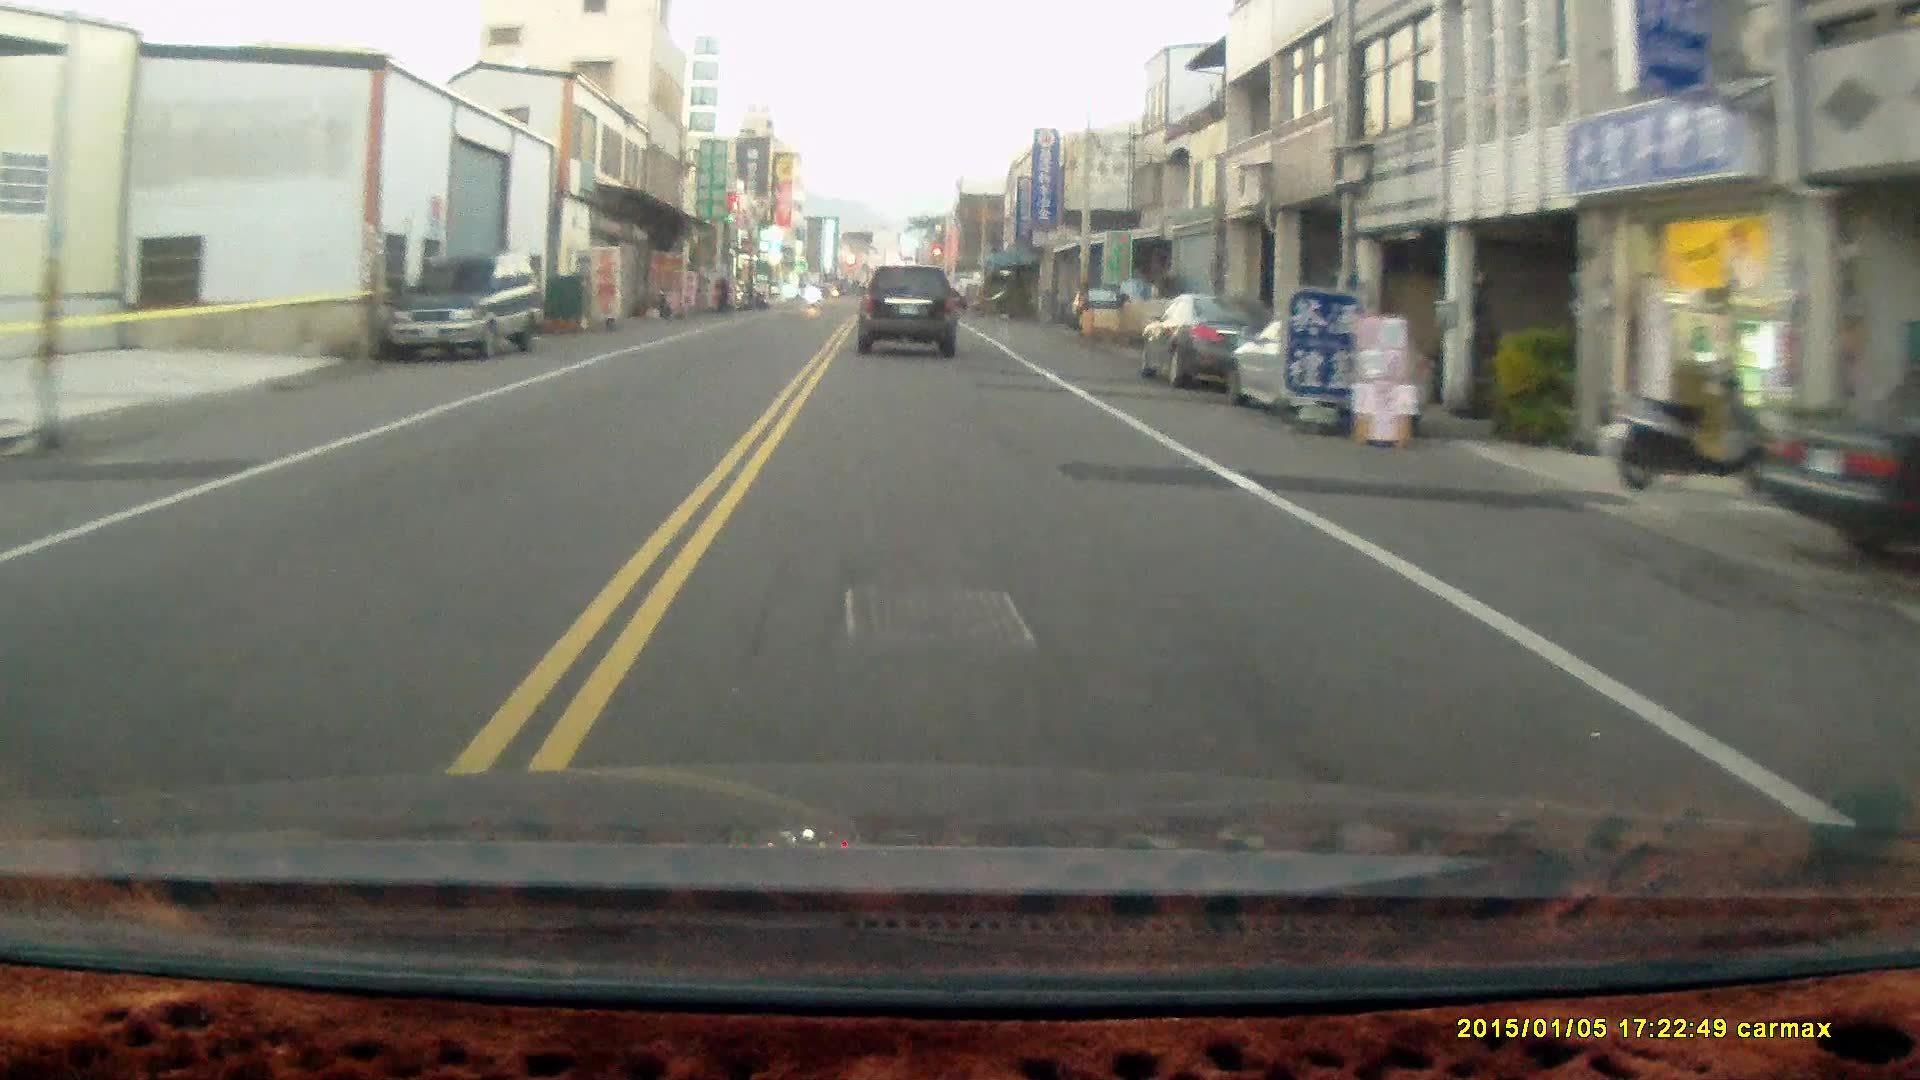vehicle: (1749, 372, 1917, 566), (1226, 314, 1436, 440), (386, 249, 545, 364), (1135, 294, 1292, 393), (857, 268, 960, 363)
